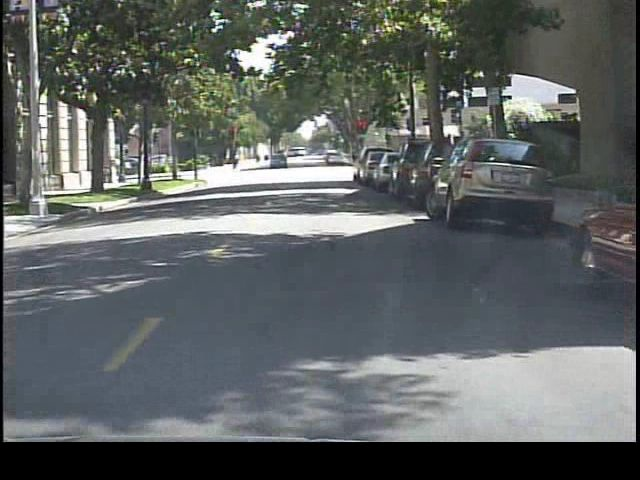person: (230, 143, 242, 169)
